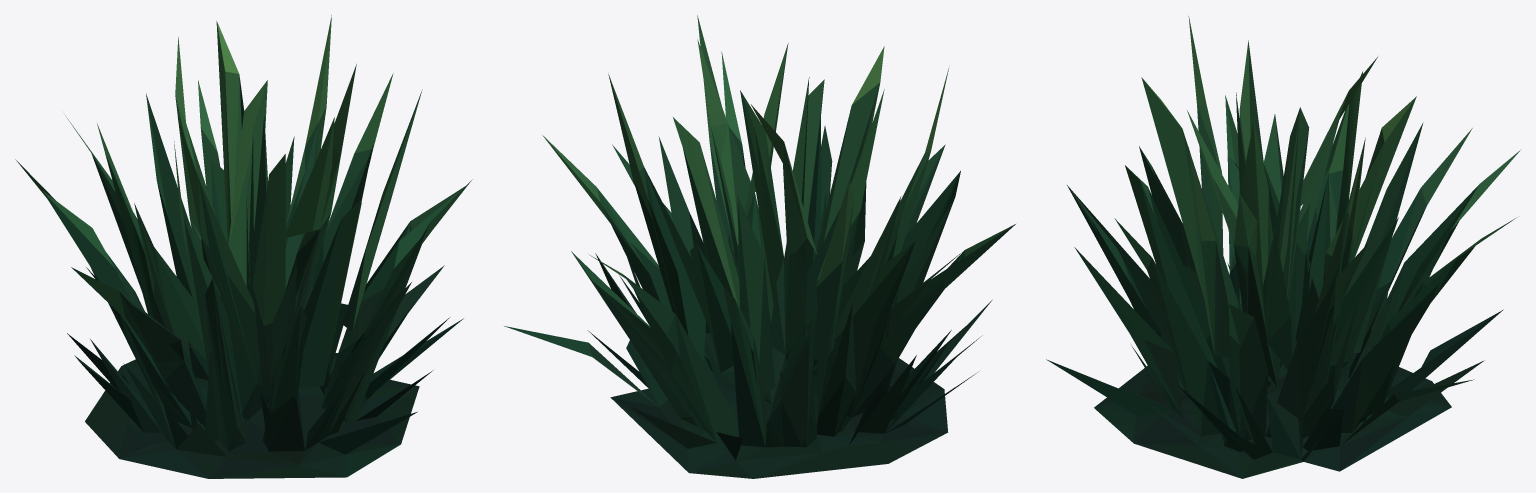
3 renders of one model, left to right at view 1: azimuth 30°, elevation 25°; view 2: azimuth 150°, elevation 25°; view 3: azimuth 270°, elevation 25°, orthographic. The views are drawn at different scales.
Visible parts, largest first — view 1: output_unwrapped; view 2: output_unwrapped; view 3: output_unwrapped.
Boxes of the visible parts, x1,y1,x2,y2 form: output_unwrapped: [15, 15, 472, 478]; output_unwrapped: [504, 15, 1015, 478]; output_unwrapped: [1046, 16, 1520, 478].
Bounding box in the file's own units: 1.5 × 1.25 × 1.57.
